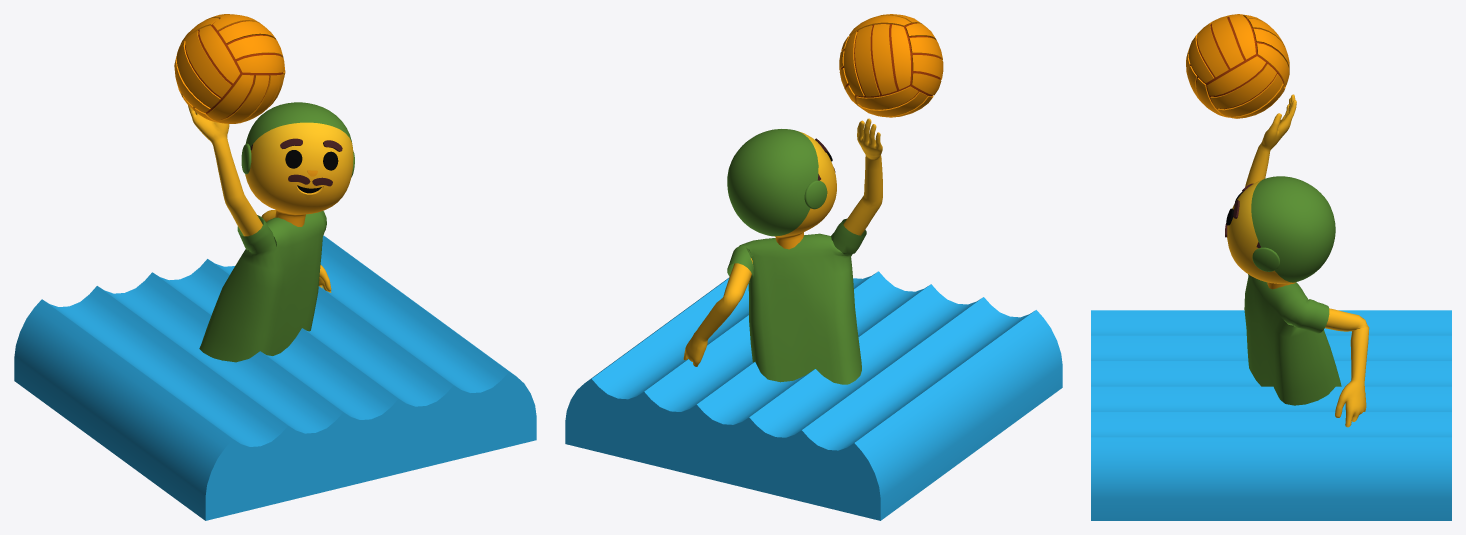
The model's file is man_playing_water_polo.fbx.
The picture shows the model from 3 angles, left to right: view 1: azimuth 30°, elevation 25°; view 2: azimuth 150°, elevation 25°; view 3: azimuth 270°, elevation 25°; orthographic projection. The views are drawn at different scales.
Parts seen in each view (by area): view 1: Cube.328, Circle.818, Cube.329, Roundcube.496, Circle.2149; view 2: Cube.328, Circle.818, Roundcube.496, Cube.329; view 3: Cube.328, Circle.818, Roundcube.496, Cube.329, Cylinder.413.
Part boxes in pixels (bbox=[...]): Cube.328: bbox=[14, 235, 536, 520]; Circle.818: bbox=[188, 105, 331, 362]; Cube.329: bbox=[174, 14, 285, 123]; Roundcube.496: bbox=[245, 102, 353, 226]; Circle.2149: bbox=[280, 138, 342, 186]; Cube.328: bbox=[565, 271, 1062, 520]; Circle.818: bbox=[683, 118, 882, 384]; Roundcube.496: bbox=[727, 129, 836, 249]; Cube.329: bbox=[839, 14, 943, 117]; Cube.328: bbox=[1091, 310, 1451, 520]; Circle.818: bbox=[1244, 94, 1369, 427]; Roundcube.496: bbox=[1227, 176, 1335, 289]; Cube.329: bbox=[1186, 14, 1289, 118]; Cylinder.413: bbox=[1252, 247, 1279, 271].
Bounding box in the file's own units: 160 × 195 × 160.
2 materials, 2 textured.
